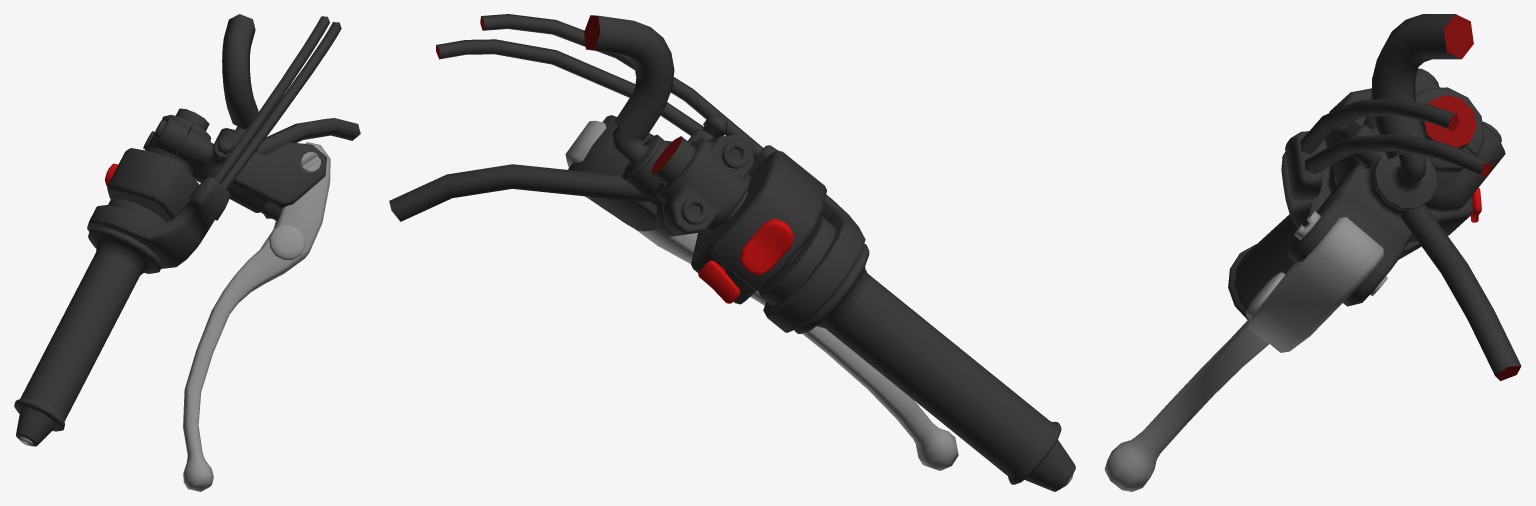
Rendered from handlebar_section.dae.
3 views of the same model, side by side, from view 1: azimuth 30°, elevation 25°; view 2: azimuth 150°, elevation 25°; view 3: azimuth 270°, elevation 25° (orthographic). The views are drawn at different scales.
Visible parts, largest first — view 1: bar (×5), chrome.3, bar.2 (×2), bar.3 (×2), bar.1, chrome.5; view 2: bar (×5), bar.3 (×2), bar.2 (×2), chrome.3, bar.1 (×2), switches.1, bar.6, switches.2; view 3: bar (×4), chrome.3, bar.3 (×2), bar.2 (×2), bar.1, bar.6, cut.2, cut.3, chrome.5.
Boxes of the visible parts, x1,y1,x2,y2 form: bar (×5): (14, 14, 326, 446); chrome.3: (183, 142, 330, 491); bar.2 (×2): (107, 16, 329, 221); bar.3 (×2): (145, 115, 360, 158); bar.1: (221, 22, 341, 189); chrome.5: (269, 224, 305, 259); bar (×5): (568, 15, 1075, 491); bar.3 (×2): (389, 134, 754, 235); bar.2 (×2): (481, 14, 826, 304); chrome.3: (565, 120, 958, 470); bar.1 (×2): (436, 39, 801, 271); switches.1: (739, 218, 794, 275); bar.6: (612, 126, 662, 181); switches.2: (698, 260, 740, 303); bar (×4): (1228, 14, 1484, 319); chrome.3: (1104, 217, 1383, 491); bar.3 (×2): (1400, 71, 1521, 375); bar.2 (×2): (1300, 88, 1472, 242); bar.1: (1305, 133, 1489, 176); bar.6: (1373, 152, 1437, 209); cut.2: (1424, 95, 1476, 147); cut.3: (1444, 14, 1473, 58); chrome.5: (1246, 272, 1285, 319).
Bounding box in the file's own units: 28.22 × 23.7 × 15.27.
